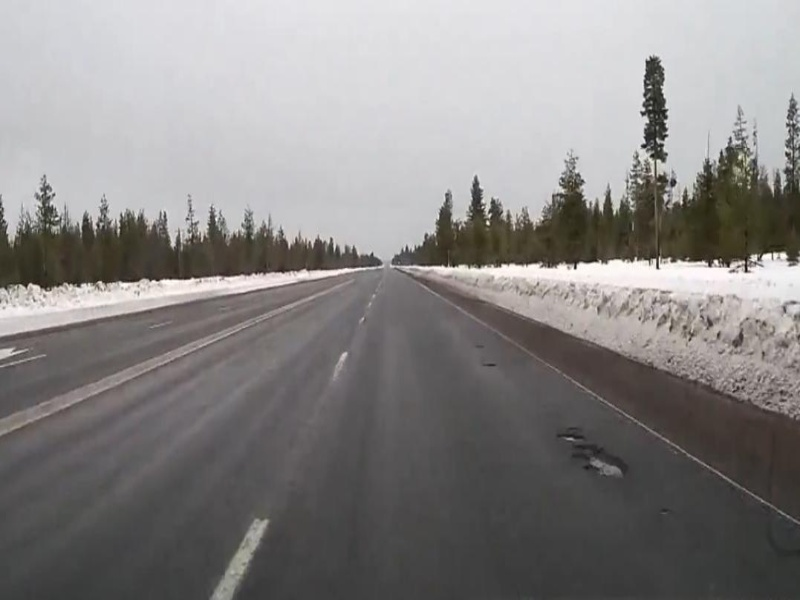pothole: (542, 429, 631, 486)
